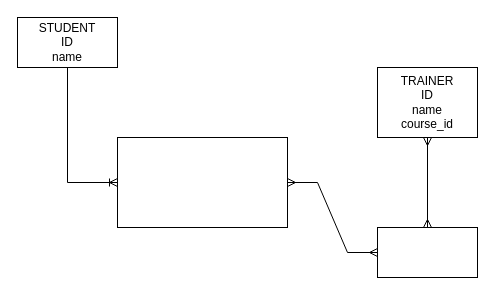
This 495x295 diagram has some shape labels left out. Here are the shapes that lost their labels. From the top down, the centre of each, then its label:
(x=202, y=182): STUDENT COURSE SIGNUP student_id course_id
(x=427, y=252): COURSE ID name
